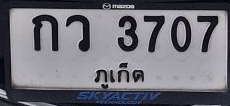txt01: (31, 13, 61, 53)
txt32: (64, 13, 93, 53)
